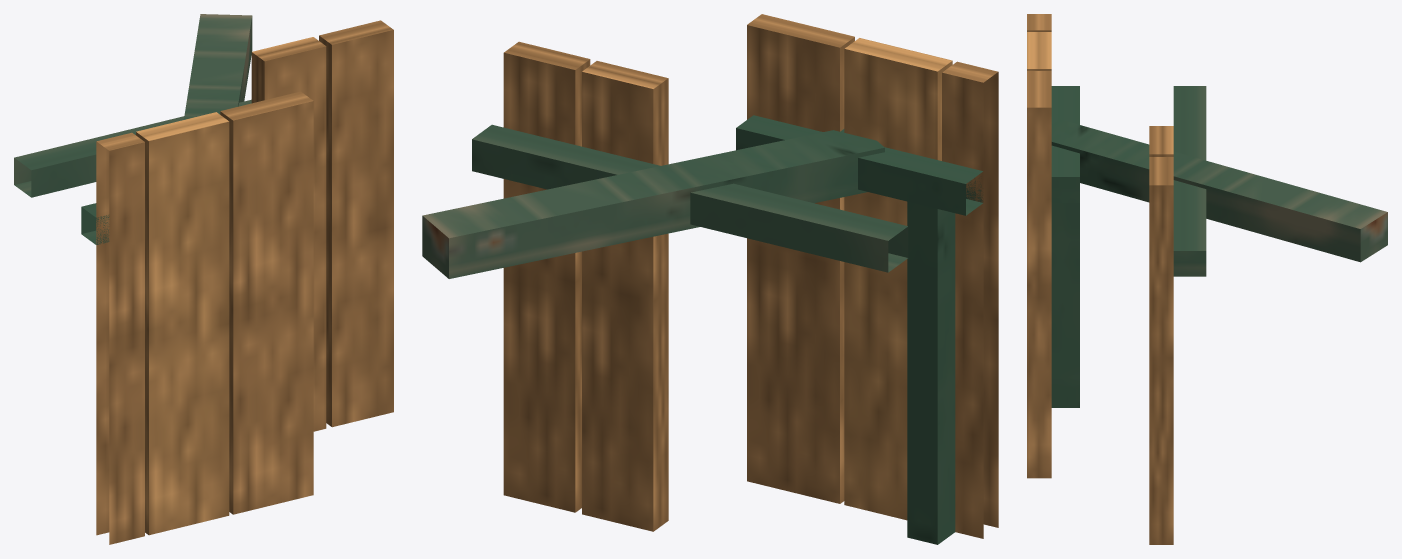
Rendered from section-5.obj.
3 views of the same model, side by side, from view 1: azimuth 30°, elevation 25°; view 2: azimuth 150°, elevation 25°; view 3: azimuth 270°, elevation 25° (orthographic). The views are drawn at different scales.
Size of the model in its own units: 0.96 by 1 by 0.8864.
Materials: 1 (1 with a texture image).
